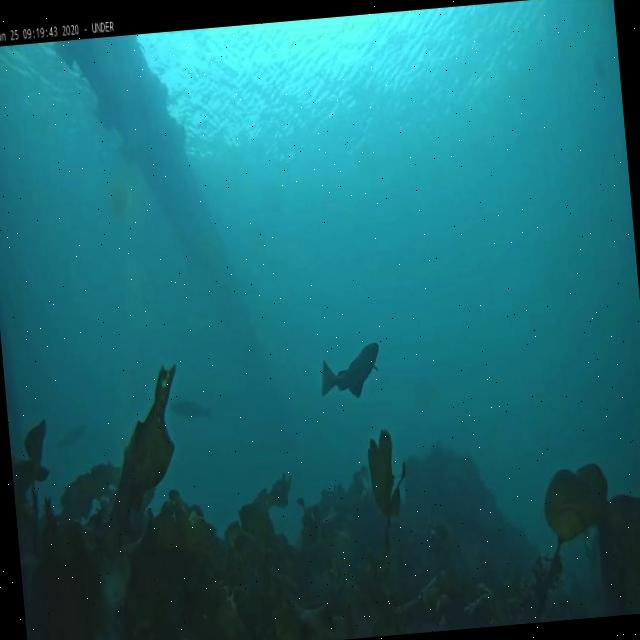fish: (319, 338, 384, 404), (168, 398, 214, 424)
